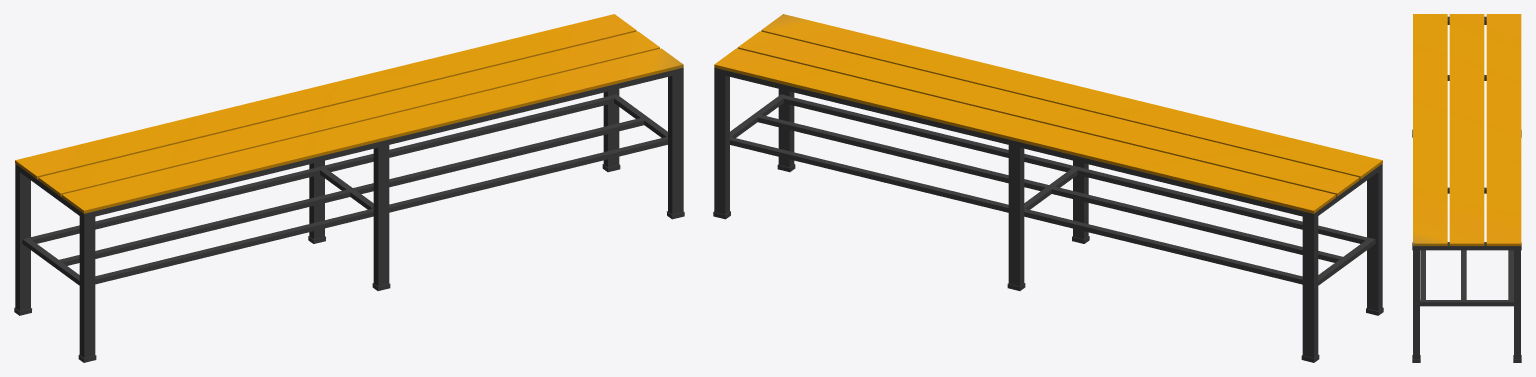
File: ghedai.fbx
3 renders of one model, left to right at view 1: azimuth 30°, elevation 25°; view 2: azimuth 150°, elevation 25°; view 3: azimuth 270°, elevation 25°, orthographic. The views are drawn at different scales.
Parts seen in each view (by area): view 1: ghedai; view 2: ghedai; view 3: ghedai.
Part boxes in pixels (<box>): ghedai: <box>14,14,684,362</box>; ghedai: <box>713,14,1383,362</box>; ghedai: <box>1412,14,1521,362</box>.
Bounding box in the file's own units: 315 × 76.15 × 63.31.
1 material, 1 textured.
